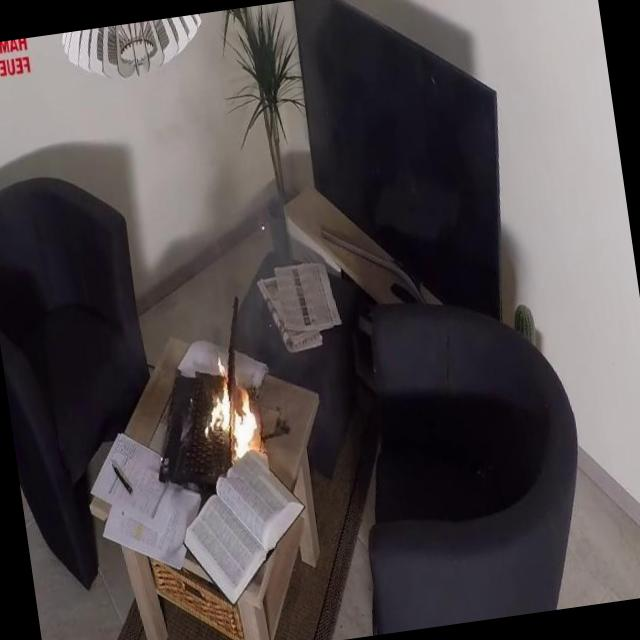fire: (188, 341, 289, 481)
